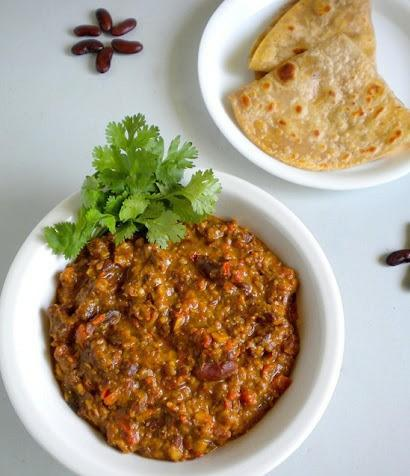RajmaCurry: (47, 205, 298, 464)
